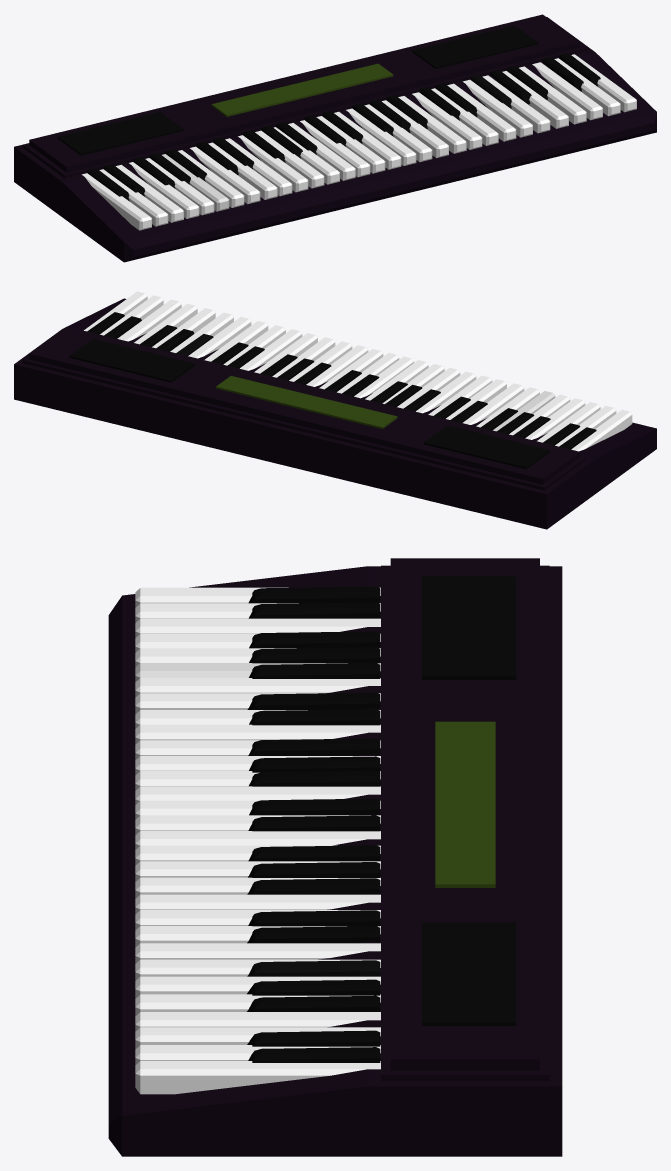
Rendered from Piano.fbx.
3 renders of one model, top to bottom at view 1: azimuth 30°, elevation 25°; view 2: azimuth 150°, elevation 25°; view 3: azimuth 270°, elevation 25°, orthographic. The views are drawn at different scales.
Parts seen in each view (by area): view 1: Cube, Plane.002, Plane.001, Plane.003, Cube.029, Cube.002, Cube.025, Cube.022, Cube.009, Cube.018, Cube.012, Cube.024 (+45 smaller); view 2: Cube, Plane.002, Plane.001, Plane.003, Cube.002, Cube.029, Cube.025, Cube.022, Cube.009, Cube.012, Cube.018, Cube.005 (+25 smaller); view 3: Cube, Plane.002, Plane.001, Plane.003, Cube.052, Cube.024, Cube.021, Cube.011, Cube.028, Cube.004, Cube.008, Cube.017 (+45 smaller).
Boxes of the visible parts, x1,y1,x2,y2 form: Cube: (14, 14, 656, 262); Plane.002: (211, 63, 393, 116); Plane.001: (412, 25, 538, 69); Plane.003: (57, 112, 183, 155); Cube.029: (532, 62, 602, 120); Cube.002: (81, 173, 151, 230); Cube.025: (462, 79, 532, 137); Cube.022: (412, 92, 482, 149); Cube.009: (190, 146, 260, 204); Cube.018: (346, 108, 416, 165); Cube.012: (238, 135, 308, 192); Cube.024: (447, 83, 516, 141); Cube: (14, 298, 656, 529); Plane.002: (216, 376, 397, 428); Plane.001: (69, 339, 195, 382); Plane.003: (424, 425, 549, 469); Cube.002: (571, 409, 632, 451); Cube.029: (117, 299, 181, 341); Cube.025: (188, 317, 251, 358); Cube.022: (240, 329, 302, 370); Cube.009: (463, 383, 524, 424); Cube.012: (416, 371, 476, 413); Cube.018: (306, 345, 368, 386); Cube.005: (525, 398, 585, 439); Cube: (108, 558, 562, 1156); Plane.002: (435, 721, 495, 887); Plane.001: (422, 922, 516, 1025); Plane.003: (422, 576, 516, 679); Cube.052: (135, 1061, 380, 1094); Cube.024: (135, 943, 380, 963); Cube.021: (135, 894, 380, 914); Cube.011: (135, 724, 380, 744); Cube.028: (135, 1012, 380, 1031); Cube.004: (135, 618, 380, 637); Cube.008: (135, 678, 380, 697); Cube.017: (135, 831, 380, 849).
Size of the model in its own units: 543 by 44.56 by 200.
